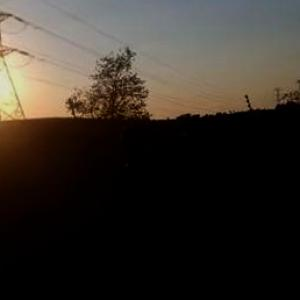follow: (108, 112, 187, 298)
